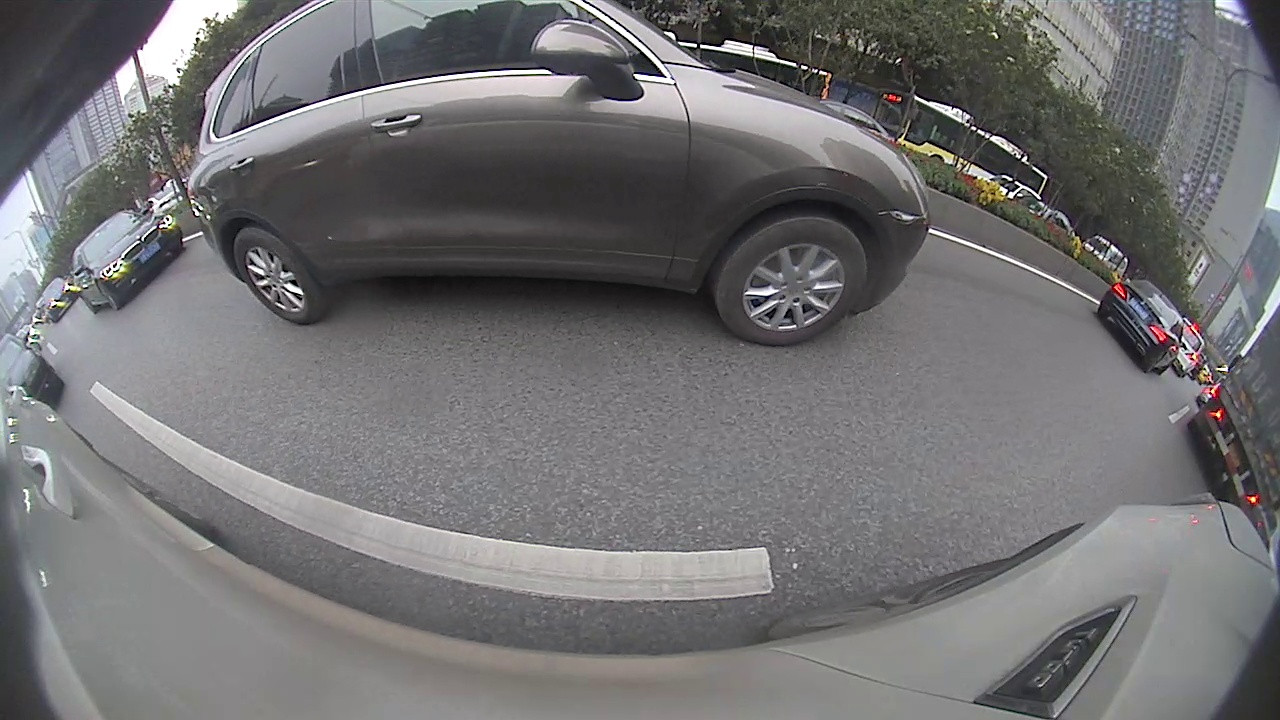car: (187, 3, 931, 350), (66, 213, 184, 313), (1094, 274, 1179, 375)
front: (720, 214, 867, 347)
rear: (233, 229, 320, 323)
